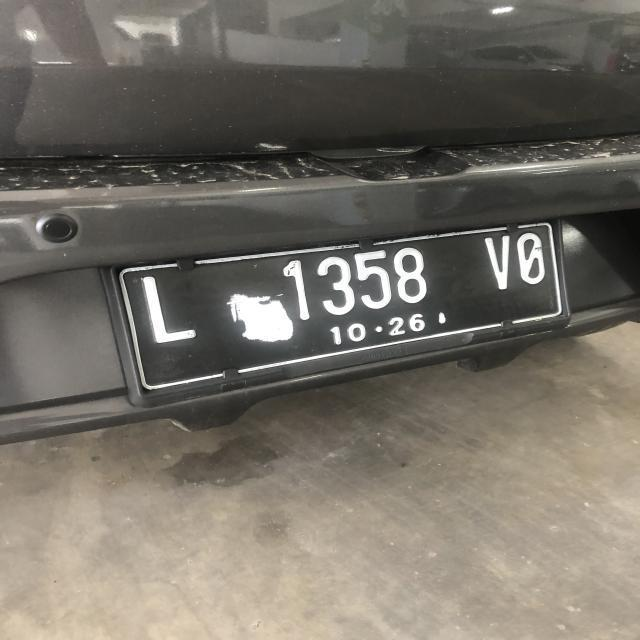1: (278, 259, 315, 324)
3: (315, 252, 357, 320)
5: (354, 248, 394, 314)
8: (394, 244, 432, 307)
L: (139, 272, 203, 350)
O: (516, 228, 548, 292)
V: (480, 233, 511, 291)
